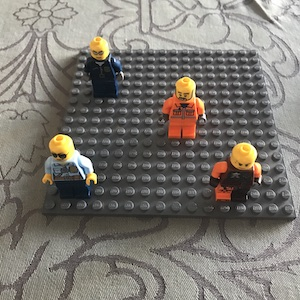Lego: (41, 133, 98, 197), (208, 141, 262, 202), (159, 77, 206, 139), (81, 36, 125, 100)
